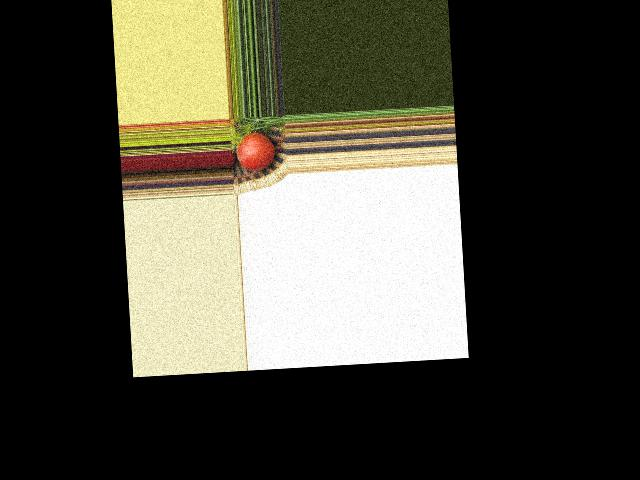tomato: (235, 130, 275, 171)
